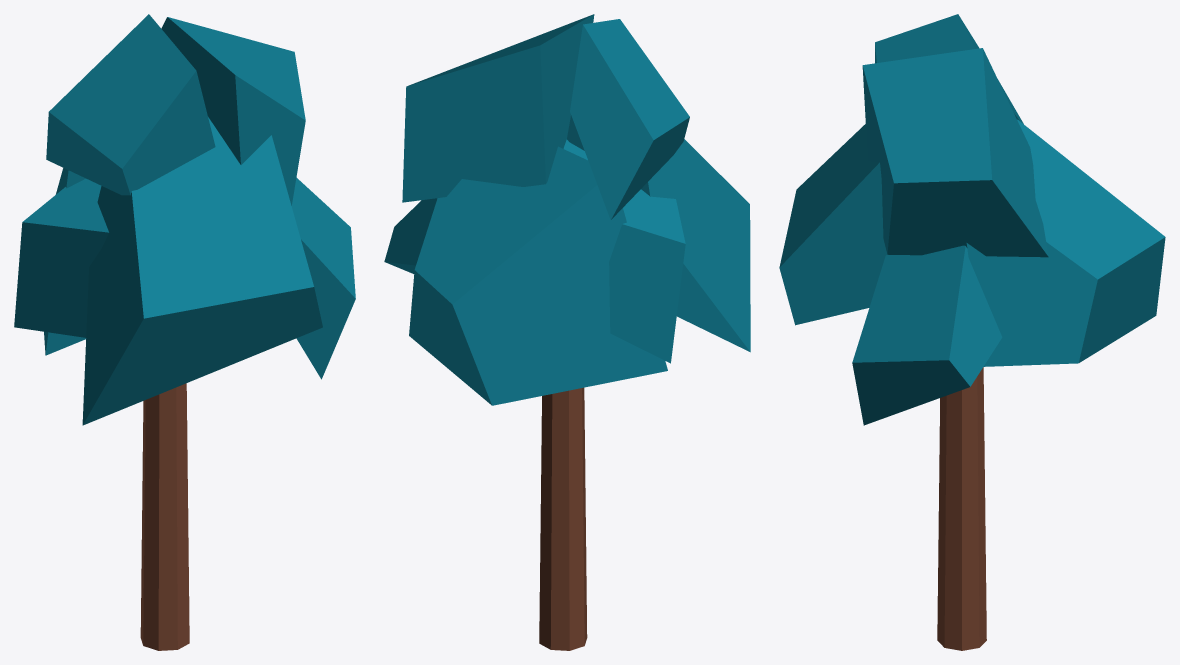
File: Tree_41_summer_blue_vc.fbx
3 views of the same model, side by side, from view 1: azimuth 30°, elevation 25°; view 2: azimuth 150°, elevation 25°; view 3: azimuth 270°, elevation 25° (orthographic). The views are drawn at different scales.
Visible parts, largest first — view 1: Tree_41_summer_blue_vc; view 2: Tree_41_summer_blue_vc; view 3: Tree_41_summer_blue_vc.
Boxes of the visible parts, <box> form: Tree_41_summer_blue_vc: <box>14,14,355,650</box>; Tree_41_summer_blue_vc: <box>384,14,750,650</box>; Tree_41_summer_blue_vc: <box>779,14,1165,650</box>.
Bounding box in the file's own units: 120 × 229 × 130.
